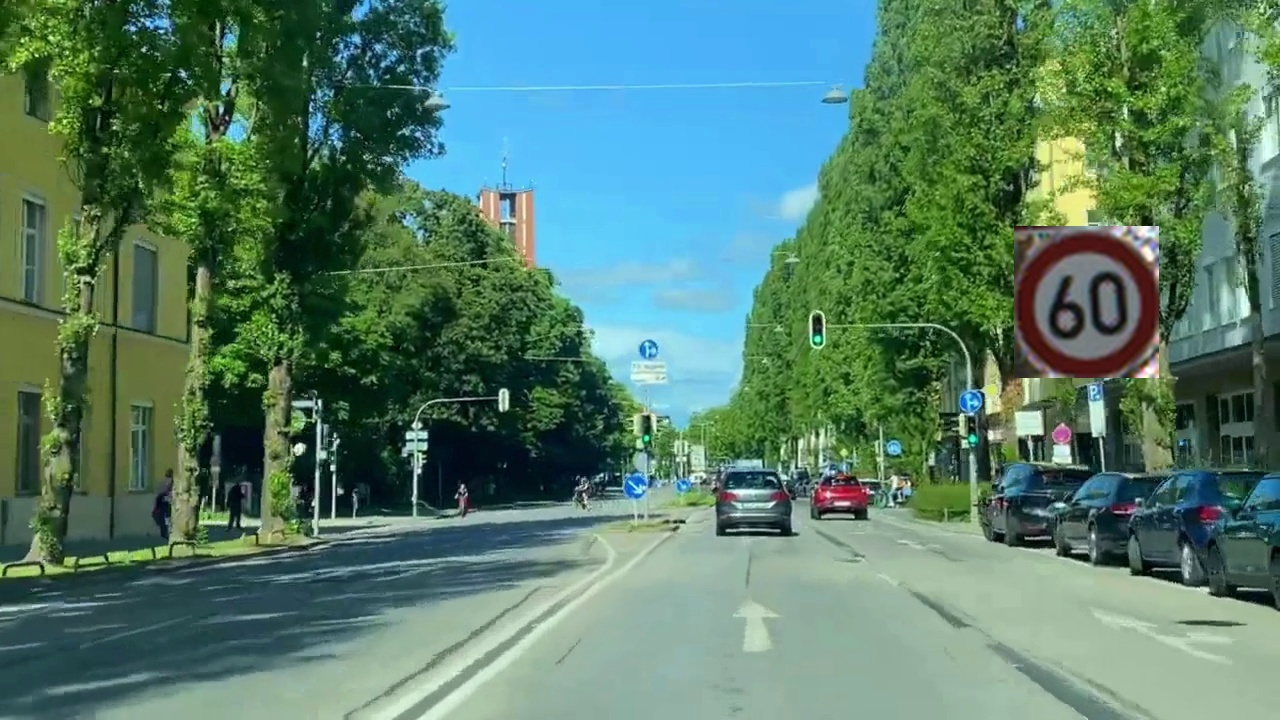Speed 60: (1014, 226, 1159, 378)
